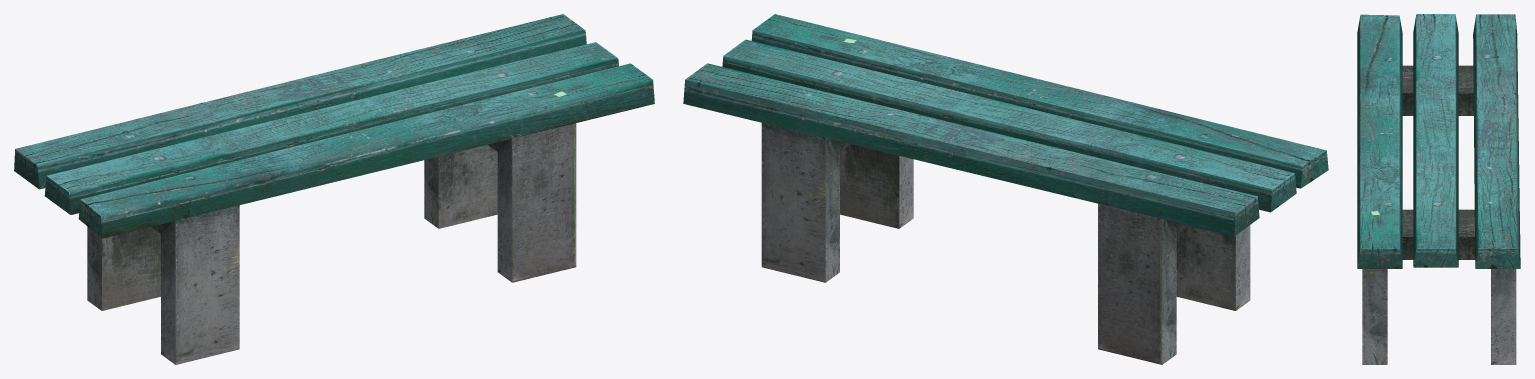
The model's file is bench1.fbx.
3 views of the same model, side by side, from view 1: azimuth 30°, elevation 25°; view 2: azimuth 150°, elevation 25°; view 3: azimuth 270°, elevation 25° (orthographic). The views are drawn at different scales.
Visible parts, largest first — view 1: bench1; view 2: bench1; view 3: bench1.
Part boxes in pixels (bbox=[...]): bench1: bbox=[14, 14, 654, 364]; bench1: bbox=[683, 14, 1328, 364]; bench1: bbox=[1357, 14, 1520, 364].
Size of the model in its own units: 151 by 44.08 by 44.2.
